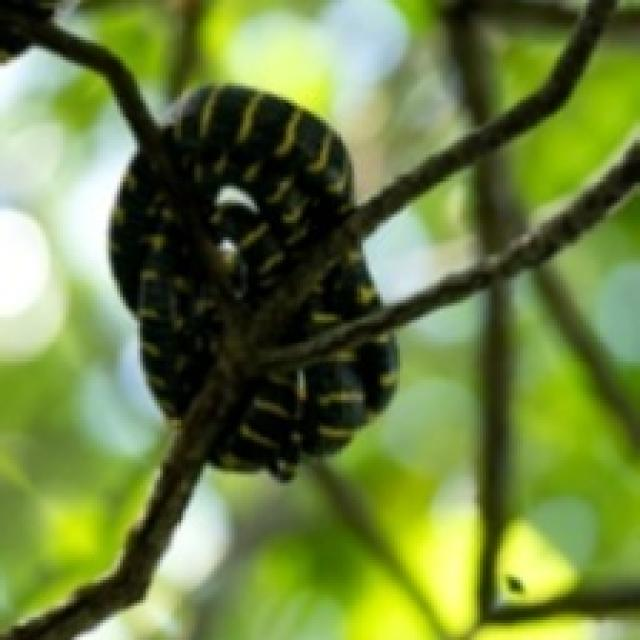mangrove cat snake: (163, 86, 351, 311), (111, 151, 223, 417), (211, 334, 394, 477), (269, 243, 377, 343)
